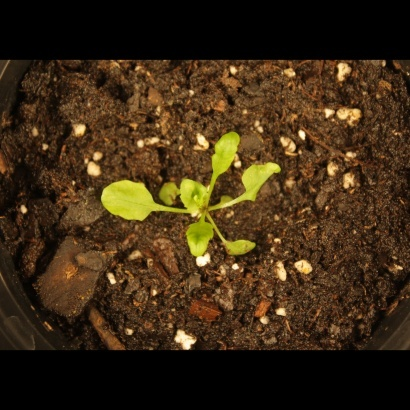leaf: (96, 173, 157, 227), (235, 159, 283, 206), (207, 125, 241, 179), (181, 216, 215, 264), (223, 231, 263, 261), (180, 178, 212, 215), (156, 175, 180, 210)
